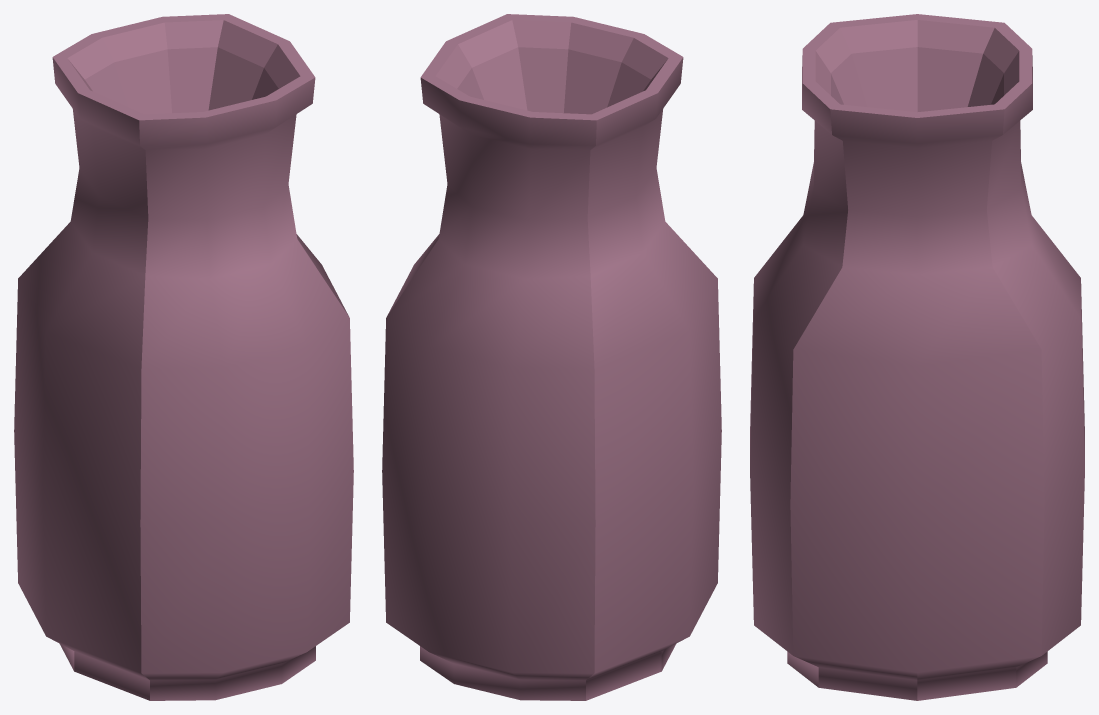
The model's file is vase.fbx.
The picture shows the model from 3 angles, left to right: view 1: azimuth 30°, elevation 25°; view 2: azimuth 150°, elevation 25°; view 3: azimuth 270°, elevation 25°; orthographic projection.
Parts seen in each view (by area): view 1: vase; view 2: vase; view 3: vase.
Boxes of the visible parts, x1=… form: vase: x1=14, y1=14, x2=353, y2=700; vase: x1=382, y1=14, x2=721, y2=700; vase: x1=750, y1=14, x2=1084, y2=700.
Bounding box in the file's own units: 31.08 × 60.75 × 31.74.
